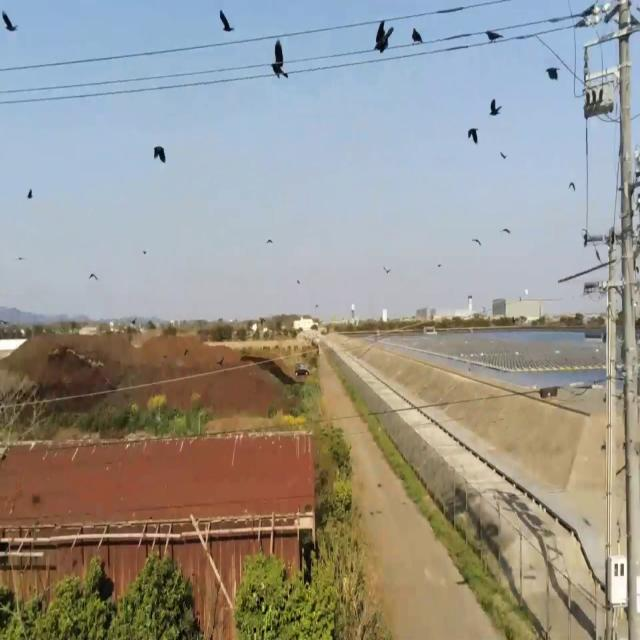bird: (271, 31, 287, 88), (374, 12, 391, 60), (2, 5, 16, 40), (219, 4, 232, 41), (153, 138, 166, 170), (467, 120, 479, 150), (485, 22, 498, 49), (546, 59, 558, 87), (412, 20, 422, 52), (490, 92, 500, 123), (89, 267, 99, 288), (598, 83, 603, 106), (28, 185, 33, 206)
